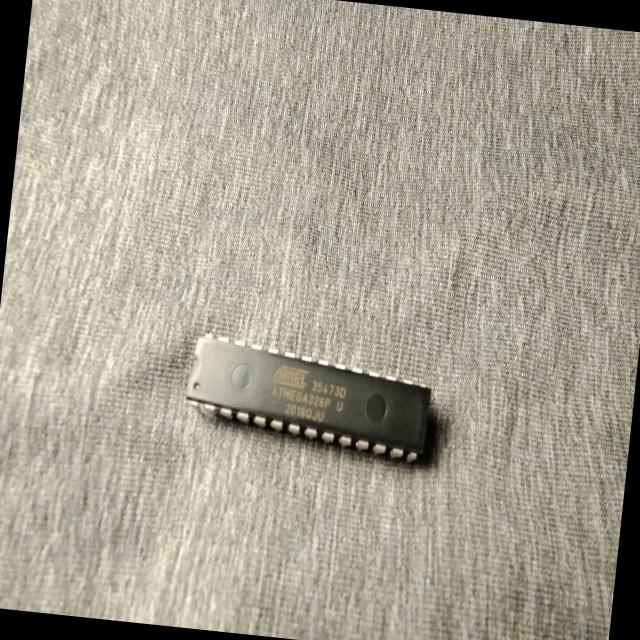atmega: (178, 330, 436, 468)
